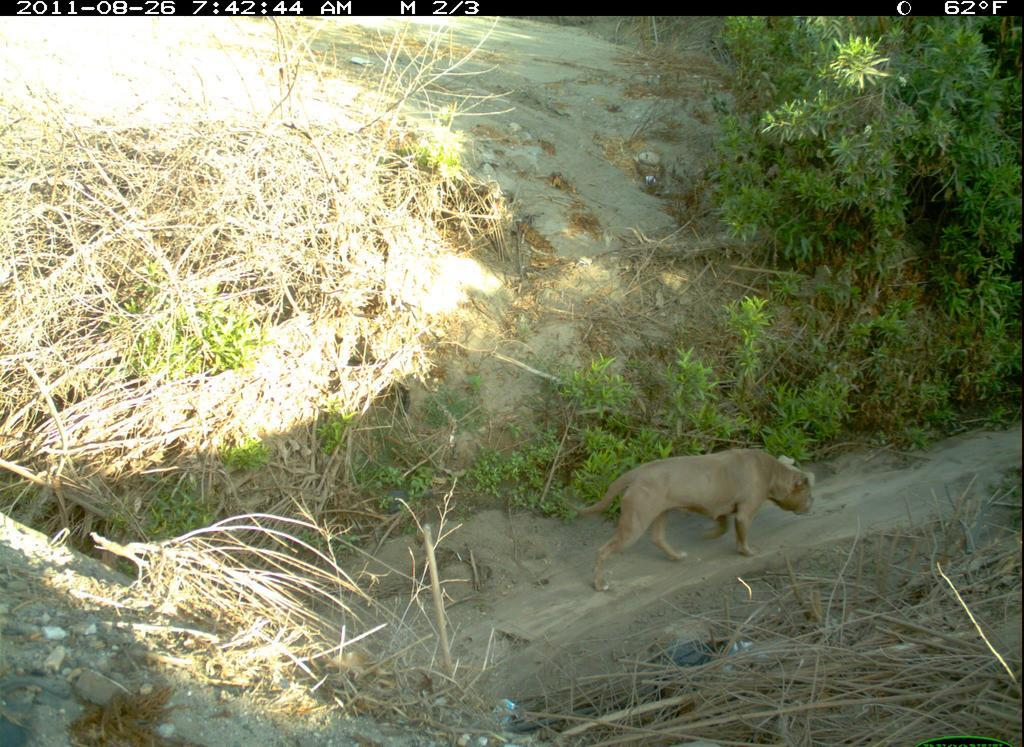dog: (560, 441, 821, 596)
